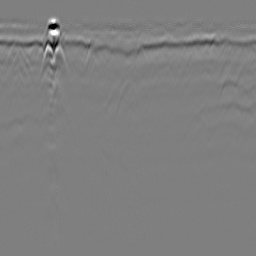cavity: (114, 75, 141, 118)
